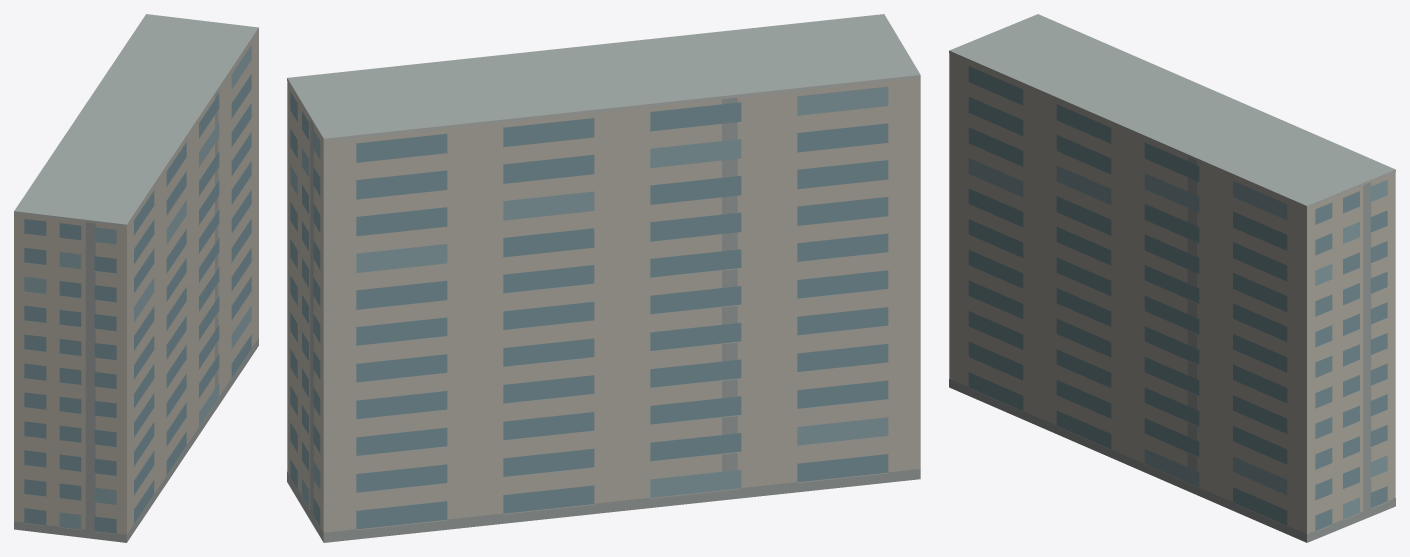
File: residential-41b063e7-b907-4900-9c61-0cf8ab1259bf.glb
3 views of the same model, side by side, from view 1: azimuth 30°, elevation 25°; view 2: azimuth 150°, elevation 25°; view 3: azimuth 270°, elevation 25° (orthographic). The views are drawn at different scales.
Visible parts, largest first — view 1: residential-41b063e7-b907-4900-9c61-0cf8ab1259bf.tmp; view 2: residential-41b063e7-b907-4900-9c61-0cf8ab1259bf.tmp; view 3: residential-41b063e7-b907-4900-9c61-0cf8ab1259bf.tmp.
Boxes of the visible parts, bbox=[...] form: residential-41b063e7-b907-4900-9c61-0cf8ab1259bf.tmp: bbox=[14, 14, 258, 542]; residential-41b063e7-b907-4900-9c61-0cf8ab1259bf.tmp: bbox=[287, 14, 920, 542]; residential-41b063e7-b907-4900-9c61-0cf8ab1259bf.tmp: bbox=[949, 14, 1395, 542].
Bounding box in the file's own units: 40.36 × 33 × 39.66.
